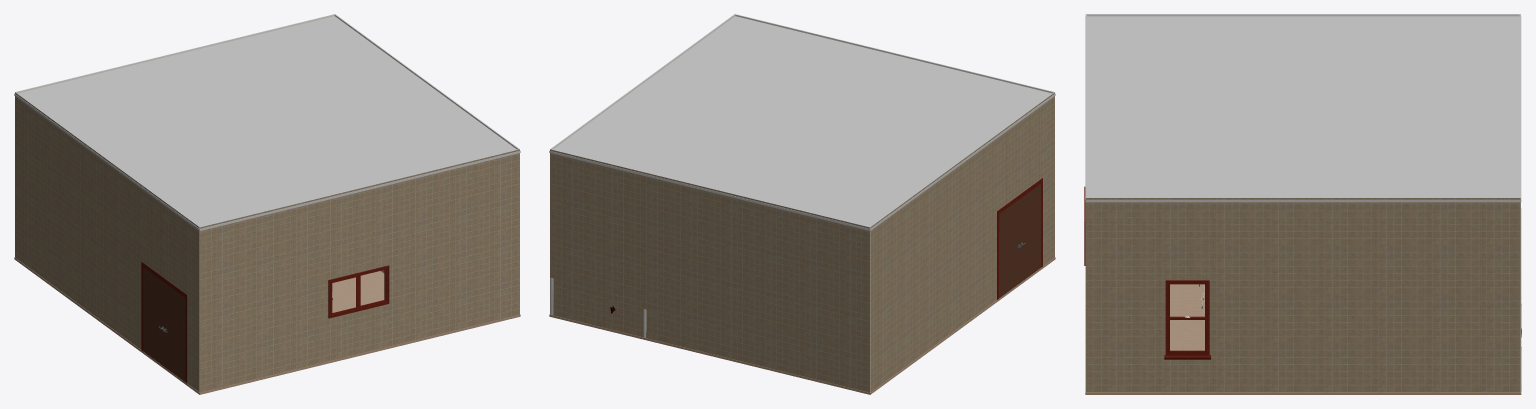
File: ProcTHOR-Train-185.glb
3 renders of one model, left to right at view 1: azimuth 30°, elevation 25°; view 2: azimuth 150°, elevation 25°; view 3: azimuth 270°, elevation 25°, orthographic. The views are drawn at different scales.
Visible parts, largest first — view 1: Ceiling#room|2|c, WallInside#wall|exterior|0.00|8.04|8.04|8.04, WallInside#wall|exterior|8.04|0.00|8.04|8.04, Floor#room|2|f, Doorway_Door_1a, Doorway_Door_1b, Window_Slider_60x36, WallInside#wall|2|0.00|0.00|8.04|0.00, Doorway_Double_1, WallInside#wall|2|0.00|0.00|0.00|8.04; view 2: Ceiling#room|2|c, WallInside#wall|exterior|0.00|0.00|8.04|0.00, WallInside#wall|exterior|8.04|0.00|8.04|8.04, Doorway_Door_1b, Doorway_Door_1a, Floor#room|2|f, WallInside#wall|2|0.00|8.04|8.04|8.04, Doorway_Double_1, WallInside#wall|2|0.00|0.00|0.00|8.04; view 3: WallInside#wall|exterior|0.00|0.00|0.00|8.04, Ceiling#room|2|c, Floor#room|2|f, Window_Hung_32x60, WallInside#wall|2|8.04|0.00|8.04|8.04, WallInside#wall|exterior|0.00|8.04|8.04|8.04, WallInside#wall|2|0.00|0.00|0.00|8.04, WallInside#wall|exterior|8.04|0.00|8.04|8.04.
Part boxes in pixels (x1,y1,x2,y2): Ceiling#room|2|c: [14, 16, 520, 230]; WallInside#wall|exterior|0.00|8.04|8.04|8.04: [200, 149, 519, 392]; WallInside#wall|exterior|8.04|0.00|8.04|8.04: [15, 92, 199, 392]; Floor#room|2|f: [14, 257, 520, 394]; Doorway_Door_1a: [164, 283, 185, 381]; Doorway_Door_1b: [143, 267, 164, 366]; Window_Slider_60x36: [328, 265, 389, 318]; WallInside#wall|2|0.00|0.00|8.04|0.00: [16, 14, 334, 93]; Doorway_Double_1: [141, 261, 187, 383]; WallInside#wall|2|0.00|0.00|0.00|8.04: [334, 14, 518, 149]; Ceiling#room|2|c: [549, 16, 1055, 230]; WallInside#wall|exterior|0.00|0.00|8.04|0.00: [550, 149, 869, 392]; WallInside#wall|exterior|8.04|0.00|8.04|8.04: [870, 92, 1054, 392]; Doorway_Door_1b: [999, 199, 1019, 298]; Doorway_Door_1a: [1020, 184, 1040, 282]; Floor#room|2|f: [549, 257, 1055, 394]; WallInside#wall|2|0.00|8.04|8.04|8.04: [735, 14, 1053, 93]; Doorway_Double_1: [997, 178, 1042, 299]; WallInside#wall|2|0.00|0.00|0.00|8.04: [551, 14, 735, 149]; WallInside#wall|exterior|0.00|0.00|0.00|8.04: [1086, 197, 1520, 392]; Ceiling#room|2|c: [1085, 16, 1521, 202]; Floor#room|2|f: [1085, 208, 1521, 394]; Window_Hung_32x60: [1164, 280, 1210, 359]; WallInside#wall|2|8.04|0.00|8.04|8.04: [1087, 14, 1520, 16]; WallInside#wall|exterior|0.00|8.04|8.04|8.04: [1085, 14, 1086, 391]; WallInside#wall|2|0.00|0.00|0.00|8.04: [1086, 197, 1520, 197]; WallInside#wall|exterior|8.04|0.00|8.04|8.04: [1087, 14, 1520, 14].
Bounding box in the file's own units: 8.25 × 4.03 × 8.11.
81 materials, 34 textured.
